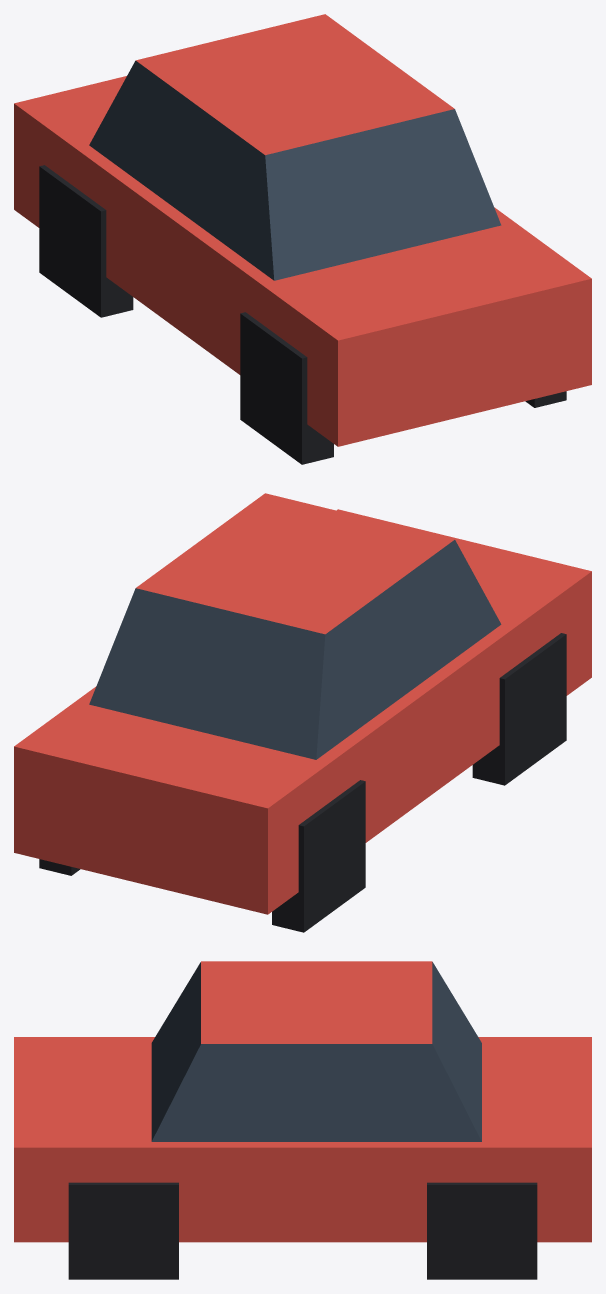
Rendered from V_CarRed.fbx.
3 views of the same model, one above another, from view 1: azimuth 30°, elevation 25°; view 2: azimuth 150°, elevation 25°; view 3: azimuth 270°, elevation 25° (orthographic). The views are drawn at different scales.
Visible parts, largest first — view 1: V_CarRed.002; view 2: V_CarRed.002; view 3: V_CarRed.002.
Boxes of the visible parts, box(x1,y1,x2,y2) form: V_CarRed.002: box(14, 14, 591, 464); V_CarRed.002: box(14, 493, 591, 932); V_CarRed.002: box(14, 961, 591, 1279).
Size of the model in its own units: 0.99 by 0.88 by 2.1.
